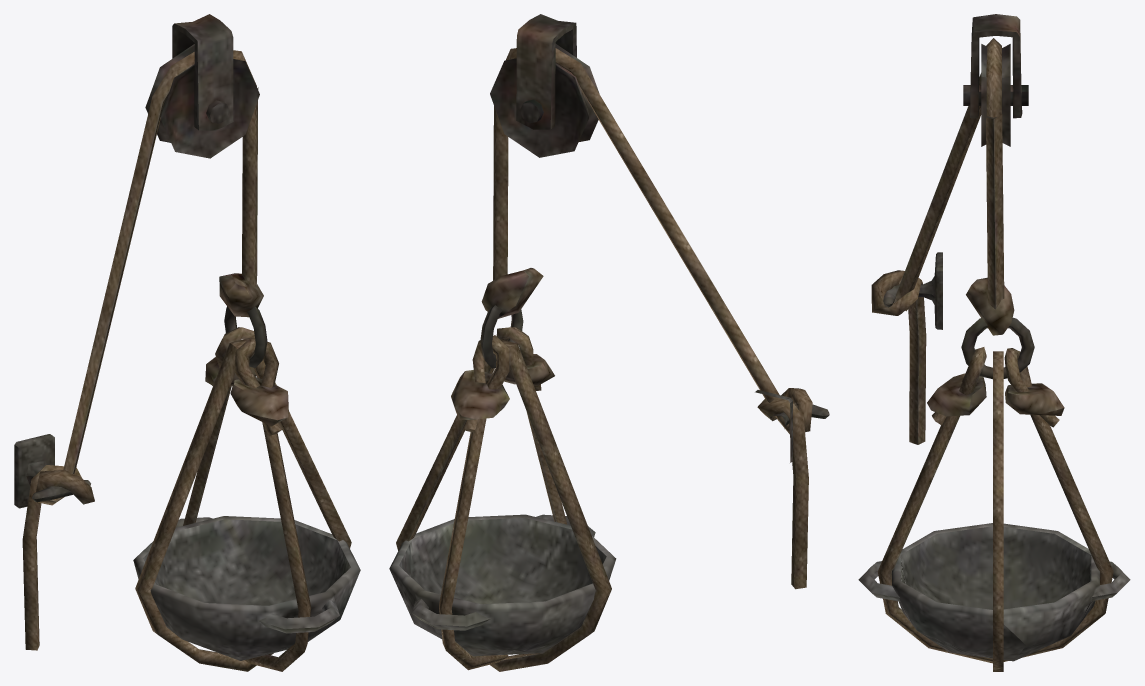
File: eso_gu11_WellPiece2-transformed.glb
The picture shows the model from 3 angles, left to right: view 1: azimuth 30°, elevation 25°; view 2: azimuth 150°, elevation 25°; view 3: azimuth 270°, elevation 25°; orthographic projection. The views are drawn at different scales.
Parts seen in each view (by area): view 1: default; view 2: default; view 3: default.
Boxes of the visible parts, left/top/right/bottom form: default: left=14, top=14, right=360, bottom=671; default: left=389, top=14, right=829, bottom=671; default: left=858, top=14, right=1130, bottom=671.
Bounding box in the file's own units: 1.59 × 2.67 × 1.05.
1 material, 1 textured.
